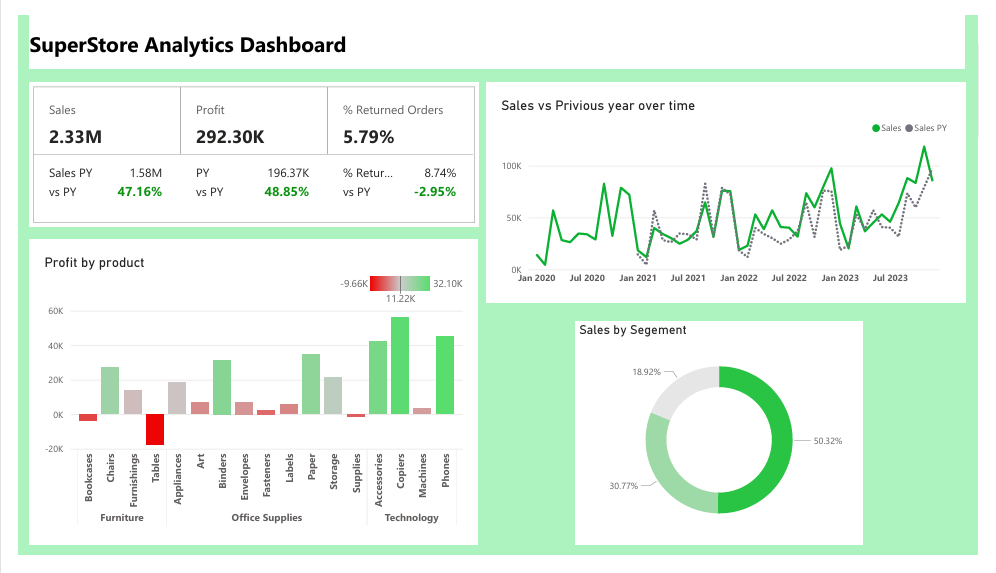

What the dashboard file says about the page in this screenshot:
{"tool":"powerbi","page":{"name":"Page 1","canvas":[1280,720],"ordinal":0},"visuals":[{"type":"cardVisual","fields":{"Data":["Key Measures.Sales","Key Measures.Profit","Key Measures.% Returned Orders"]},"box":[14.2,89.3,599.5,192.8],"z":0},{"type":"shape","box":[14.2,0,1247.2,72.3],"z":1000},{"type":"lineChart","title":"Sales vs Privious year over time","fields":{"Y":["Key Measures.Sales","Key Measures.Sales PY"],"Category":["Date Table.start of month"]},"box":[623.2,89,638.3,294],"z":1001},{"type":"columnChart","title":"Profit by product","fields":{"Y":["Key Measures.Profit"],"Category":["Orders.Category","Orders.Sub-Category"]},"box":[14.2,297.6,598.1,408.2],"z":1002},{"type":"donutChart","title":"Sales by Segement","fields":{"Category":["Orders.Segment"],"Y":["Key Measures.Sales"]},"box":[742.5,408.2,383,297.3],"z":1004}]}

Visuals, with their boxes in screenshot pixels (x1, y1, x2, y2), scaled from the page's 1280x720 canvas onto the 996x573 screenshot:
cardVisual - Key Measures.Sales x Key Measures.Profit: [11,71,478,225]
shape: [11,0,982,58]
"Sales vs Privious year over time" lineChart: [485,71,982,305]
"Profit by product" columnChart: [11,237,476,562]
"Sales by Segement" donutChart: [578,325,876,561]
